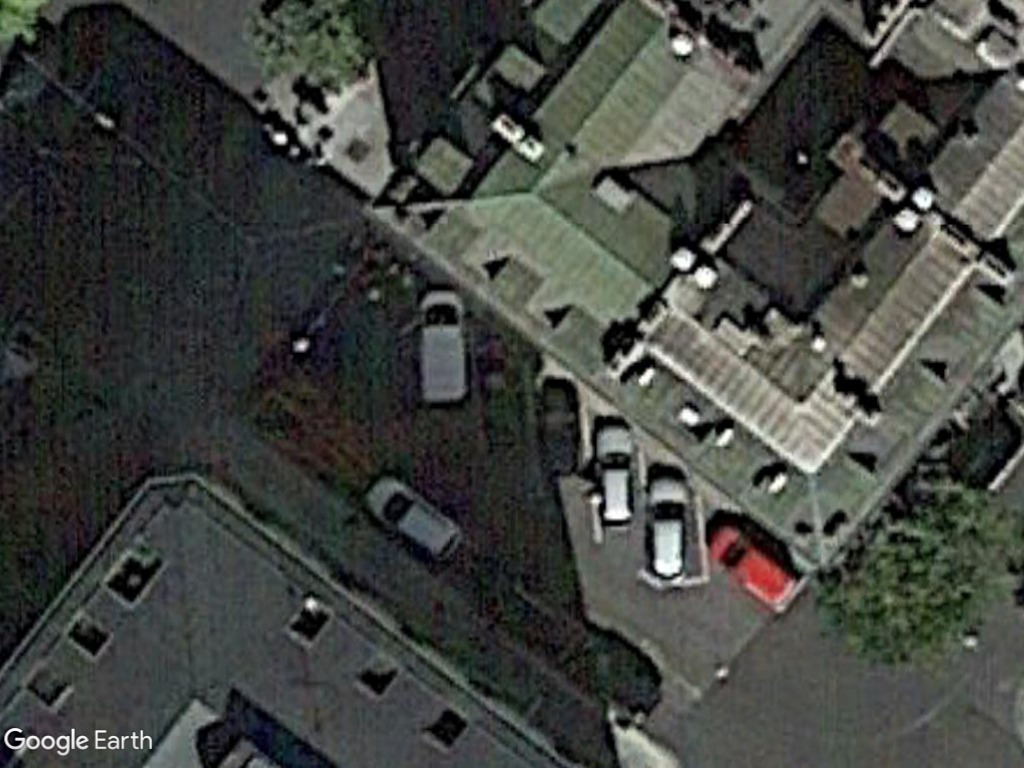car: (359, 469, 464, 563), (705, 515, 800, 609), (590, 417, 639, 532), (646, 471, 689, 587)
van: (417, 282, 473, 408)
